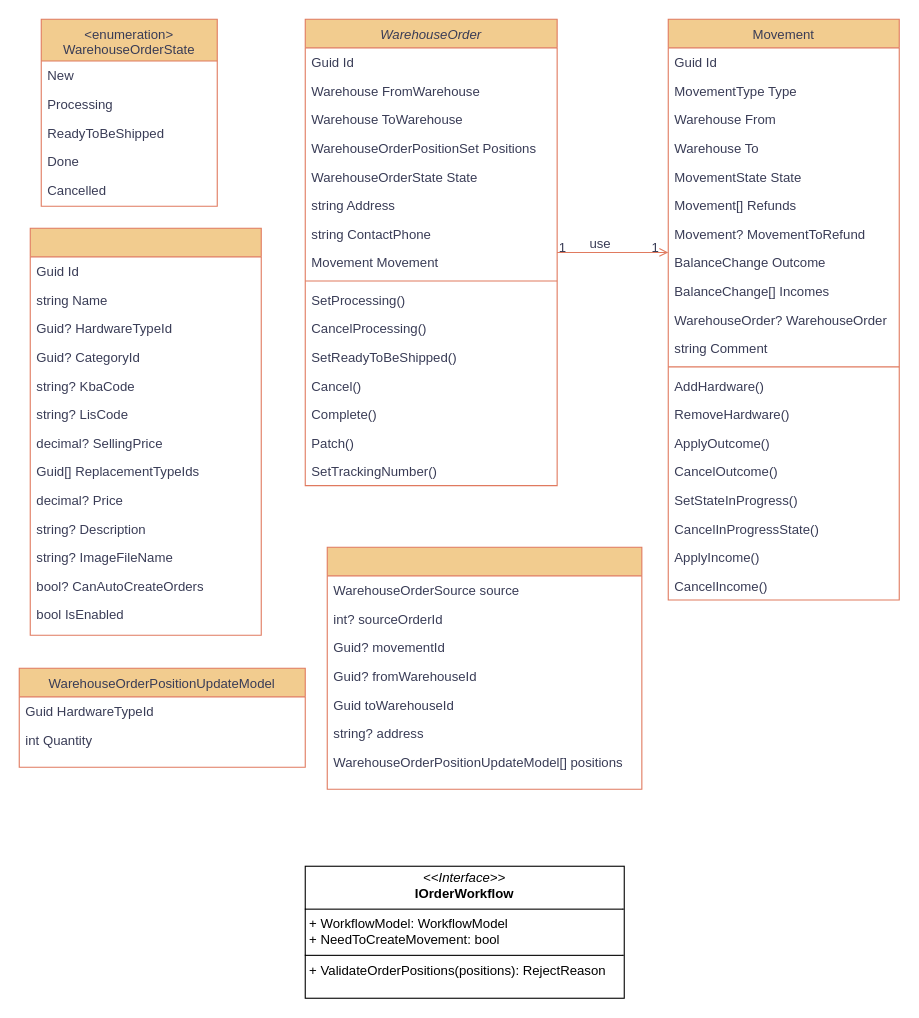
The diagram is 919 pixels wide and 1018 high, and some of its shapes have lost their labels. The shapes that lost their labels are listed below. From the top down, each one's box as (x1, y1, x2, y2) in pixels, then its label:
(29, 227, 261, 635): Item
(326, 546, 642, 789): WarehouseOrderUpdateModel
